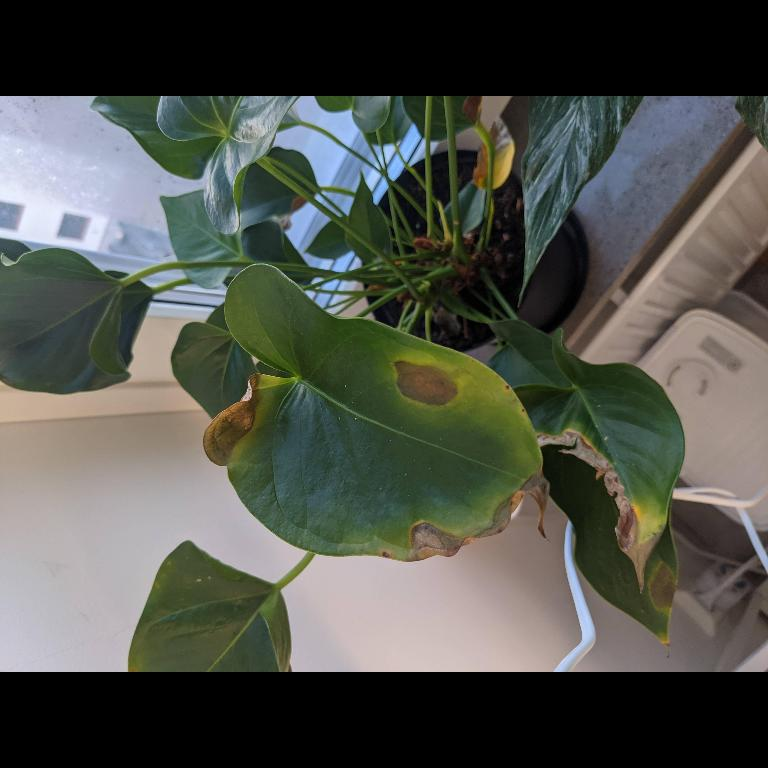blight: (372, 336, 474, 424)
